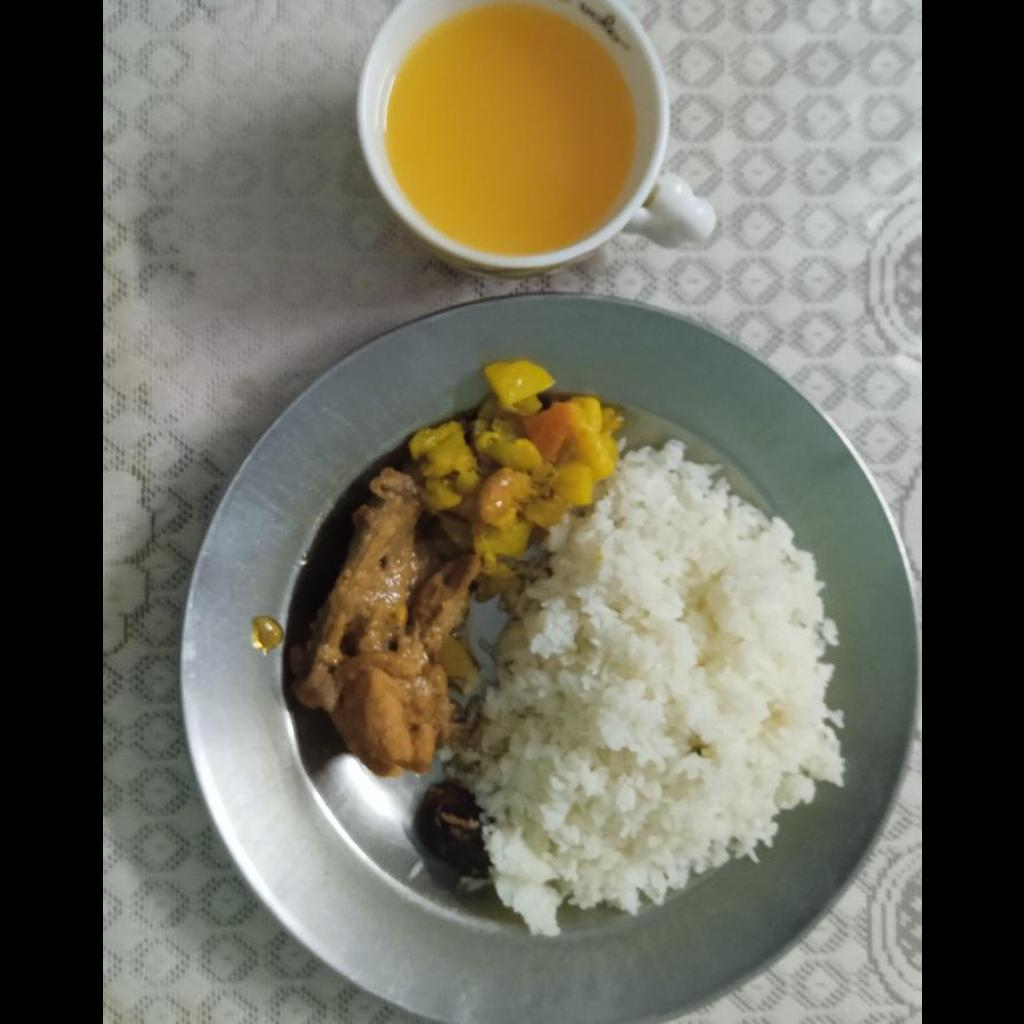chicken: (308, 482, 478, 769)
juice: (389, 2, 634, 252)
rice: (489, 439, 849, 937)
vegetable: (407, 356, 613, 558)
